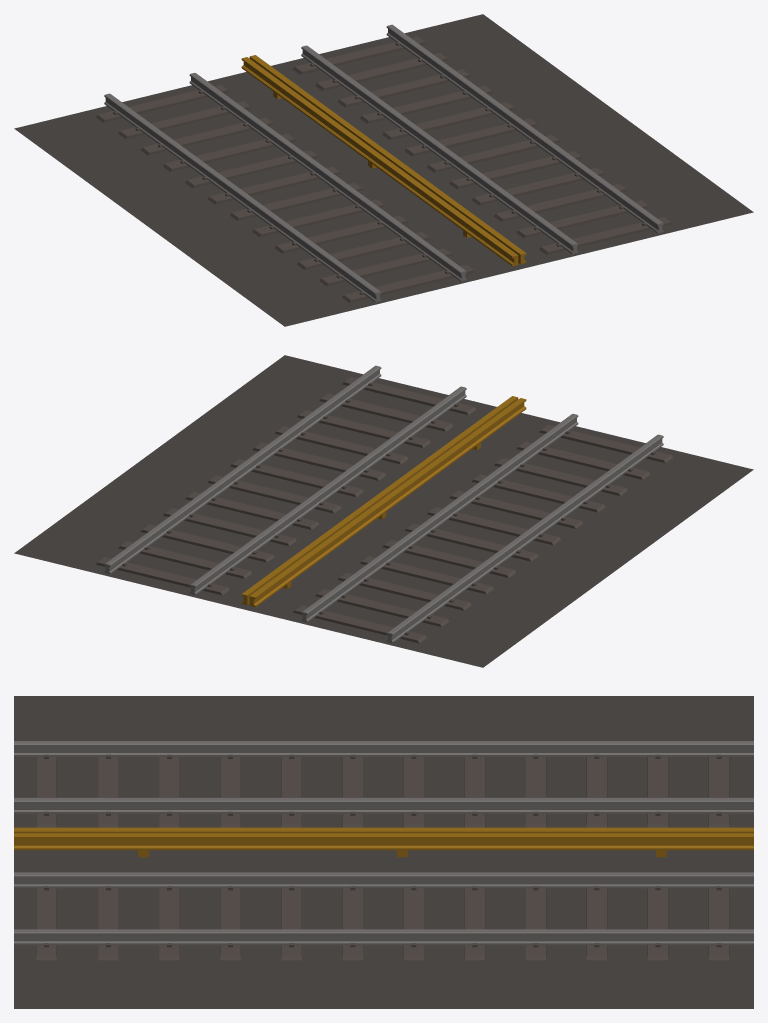
File: SM_Train_Track_Onground_01.fbx
3 renders of one model, top to bottom at view 1: azimuth 30°, elevation 25°; view 2: azimuth 150°, elevation 25°; view 3: azimuth 270°, elevation 25°, orthographic. The views are drawn at different scales.
Visible parts, largest first — view 1: SM_Train_Track_Onground_01; view 2: SM_Train_Track_Onground_01; view 3: SM_Train_Track_Onground_01.
Part boxes in pixels (x1,y1,x2,y2): SM_Train_Track_Onground_01: (14, 14, 753, 326); SM_Train_Track_Onground_01: (14, 355, 753, 667); SM_Train_Track_Onground_01: (14, 696, 753, 1008).
Bounding box in the file's own units: 1000 × 30 × 1000.
